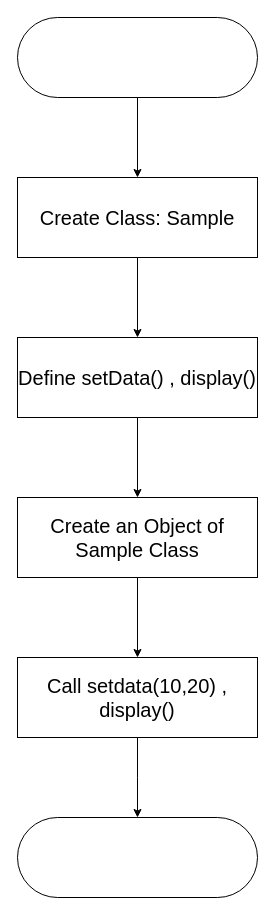
Image size: 275x915. Some labels were removed from this diagram. The centre of each missing label's shape, as x and y in pixels:
"Start" goes at [137,57].
"Stop" goes at [137,857].
